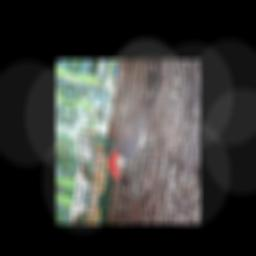Woodpecker: (105, 73, 166, 199)
